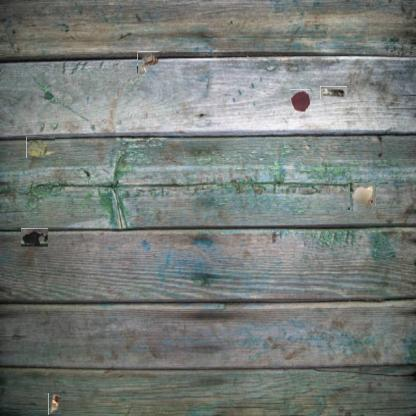dirty: (349, 184, 375, 210), (26, 136, 55, 158), (137, 51, 159, 74), (320, 86, 347, 99), (48, 394, 61, 416)
liquid: (20, 228, 48, 247), (290, 89, 310, 112)
